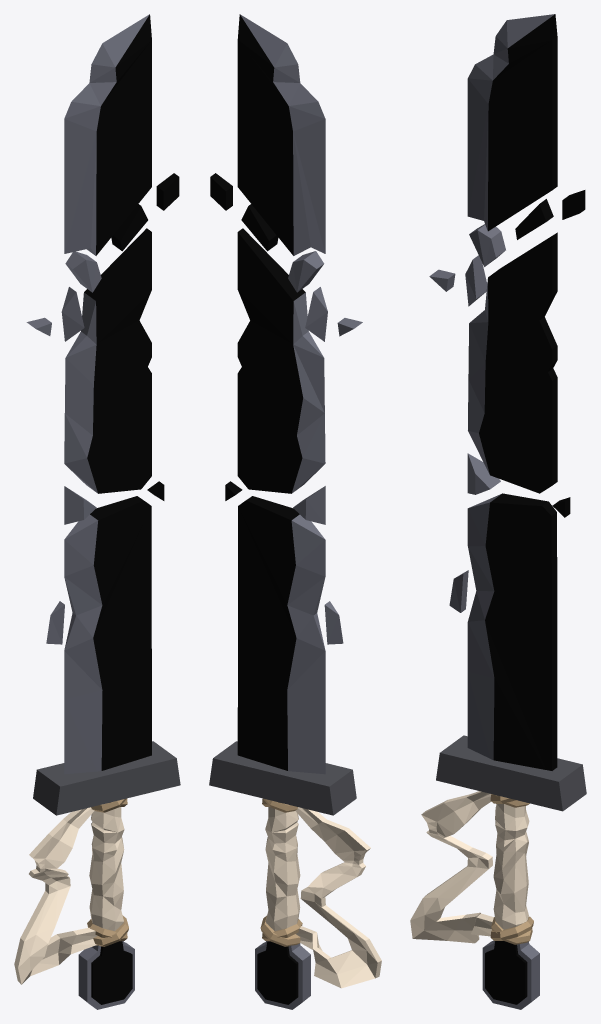
File: MagicSword.glb
3 views of the same model, side by side, from view 1: azimuth 30°, elevation 25°; view 2: azimuth 150°, elevation 25°; view 3: azimuth 330°, elevation 25° (orthographic). The views are drawn at different scales.
Visible parts, largest first — view 1: sword_23; view 2: sword_23; view 3: sword_23.
Part boxes in pixels (left/top/right/bottom): sword_23: left=14, top=14, right=180, bottom=1009; sword_23: left=209, top=14, right=381, bottom=1009; sword_23: left=410, top=14, right=586, bottom=1009.
Bounding box in the file's own units: 0.2534 × 1.45 × 0.0626.
Materials: 1 (1 with a texture image).
